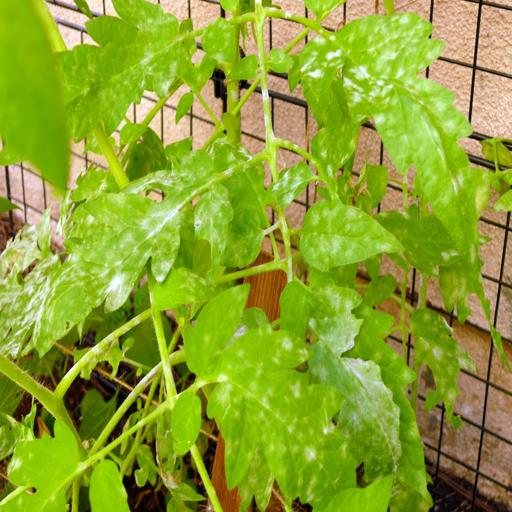Leaf Mold: (220, 264, 412, 509), (0, 192, 166, 330)
